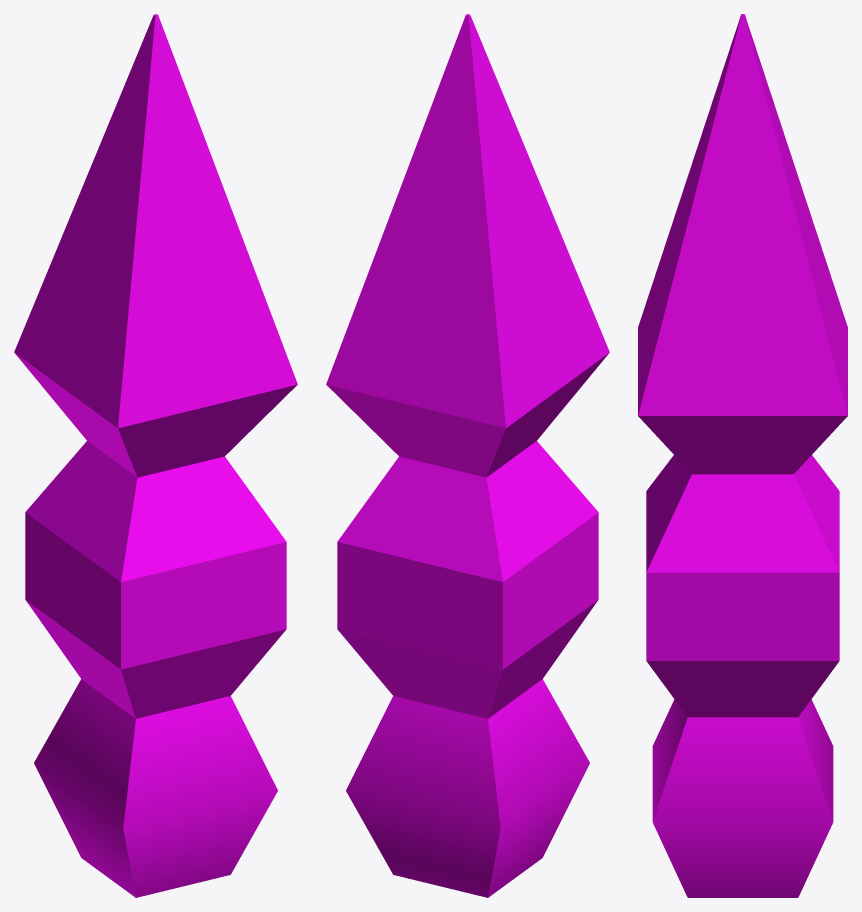
Rendered from amethyst pillar.fbx.
3 renders of one model, left to right at view 1: azimuth 30°, elevation 25°; view 2: azimuth 150°, elevation 25°; view 3: azimuth 270°, elevation 25°, orthographic.
Visible parts, largest first — view 1: amethyst_pillar; view 2: amethyst_pillar; view 3: amethyst_pillar.
Boxes of the visible parts, left/top/right/bottom form: amethyst_pillar: left=14, top=14, right=297, bottom=897; amethyst_pillar: left=326, top=14, right=609, bottom=897; amethyst_pillar: left=638, top=14, right=847, bottom=897.
Bounding box in the file's own units: 9.76 × 44.13 × 9.76.
